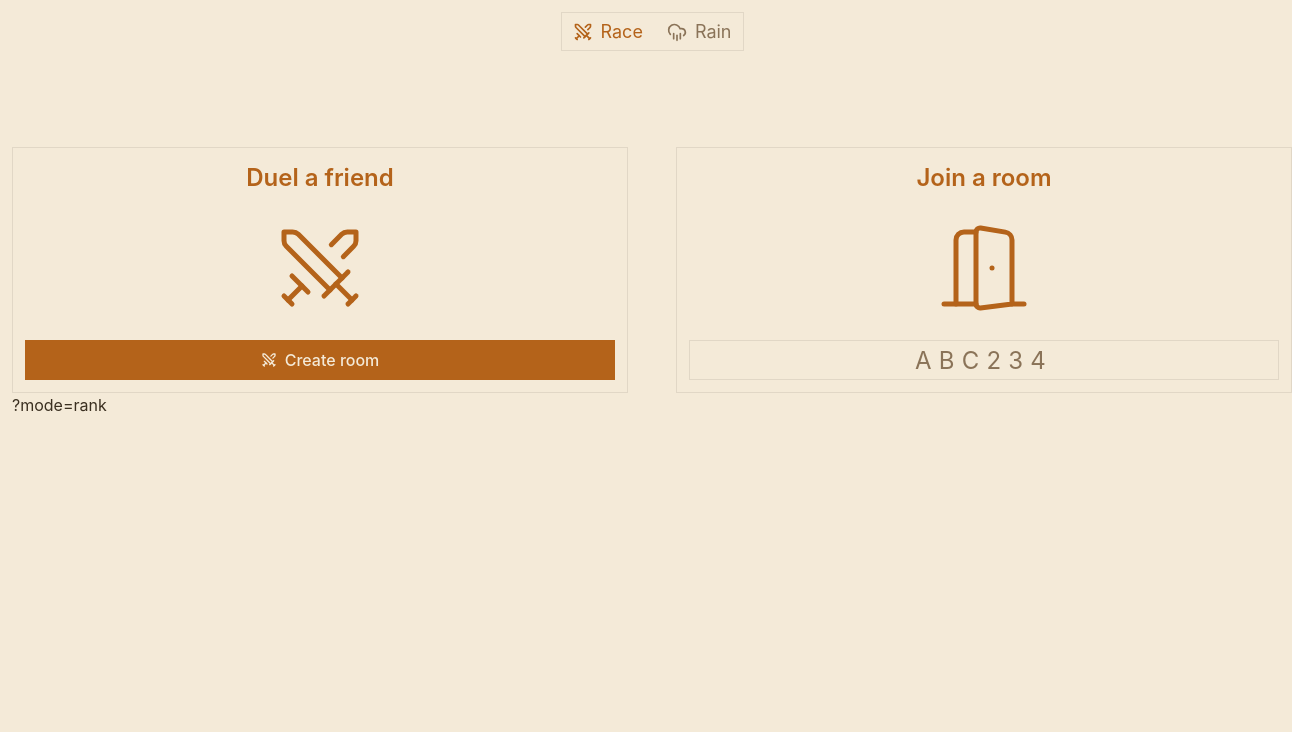
Test: RankMode (ranked duel, phase 4) › creates a room, puts its code in the URL and waits for an opponent
The width and height of the screenshot is (1292, 732).
Click the button "Create room": click(320, 360) top-left (25, 340), bottom-right (615, 380)
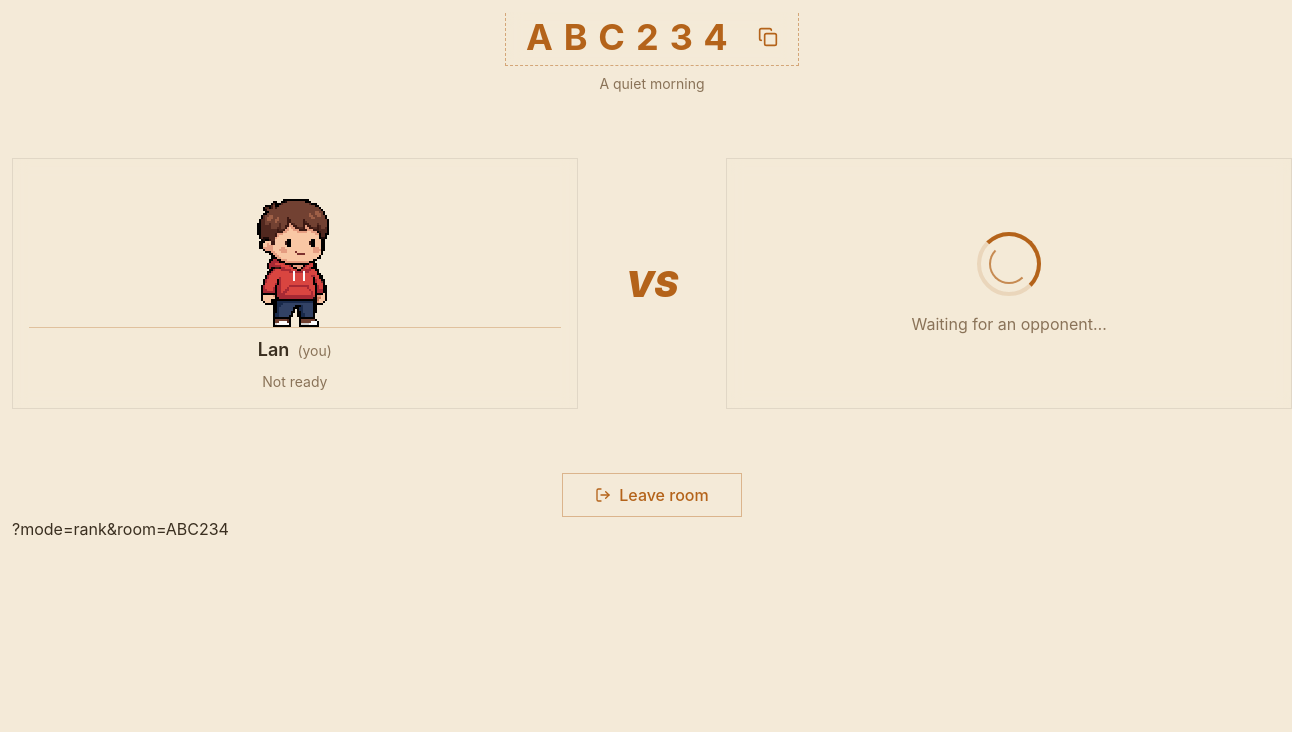
Expected: the text "ABC234" is shown, top-left (526, 17), bottom-right (738, 57)
Expected: the text "Waiting for an opponent…" is shown, top-left (912, 312), bottom-right (1107, 336)
Expected: the button named "Copy code" is shown, top-left (746, 19), bottom-right (790, 55)
